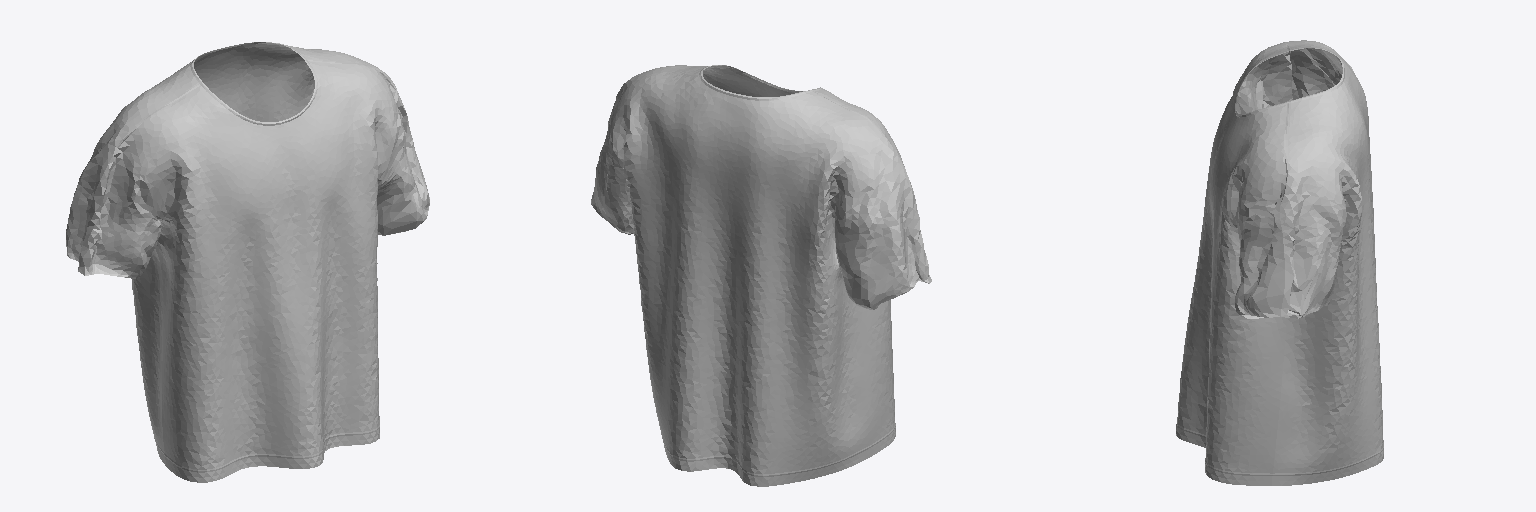
Rendered from Medium_Average.obj.
3 renders of one model, left to right at view 1: azimuth 30°, elevation 25°; view 2: azimuth 150°, elevation 25°; view 3: azimuth 270°, elevation 25°, orthographic.
Parts seen in each view (by area): view 1: 短袖.006; view 2: 短袖.006; view 3: 短袖.006.
Boxes of the visible parts, x1,y1,x2,y2 form: 短袖.006: [66, 42, 429, 482]; 短袖.006: [591, 65, 931, 486]; 短袖.006: [1176, 40, 1383, 485].
Bounding box in the file's own units: 0.6035 × 0.6329 × 0.3208.